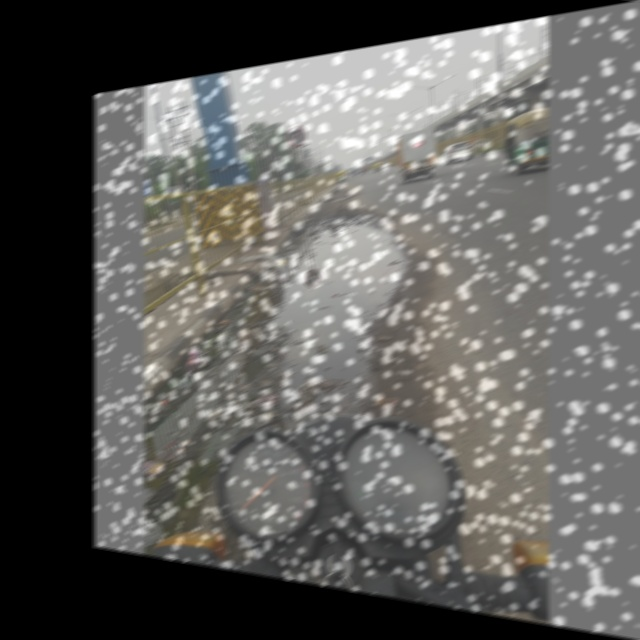U_Turn_Prohibited: (285, 122, 307, 151)
